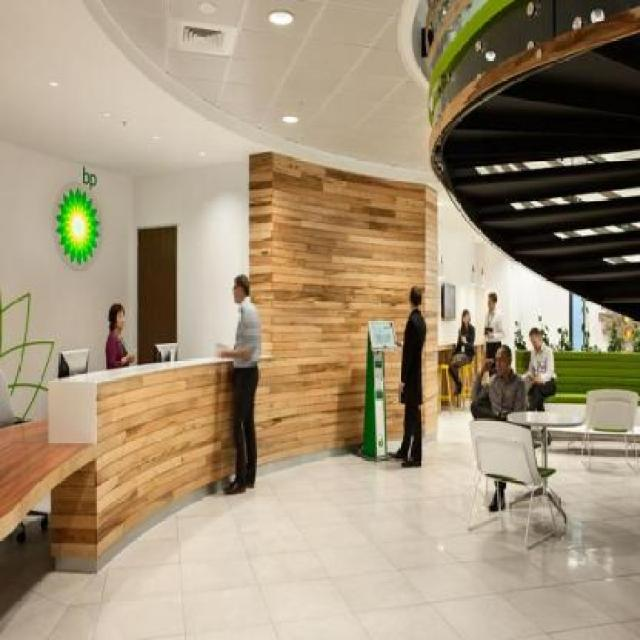frontdesk: (46, 337, 254, 575)
